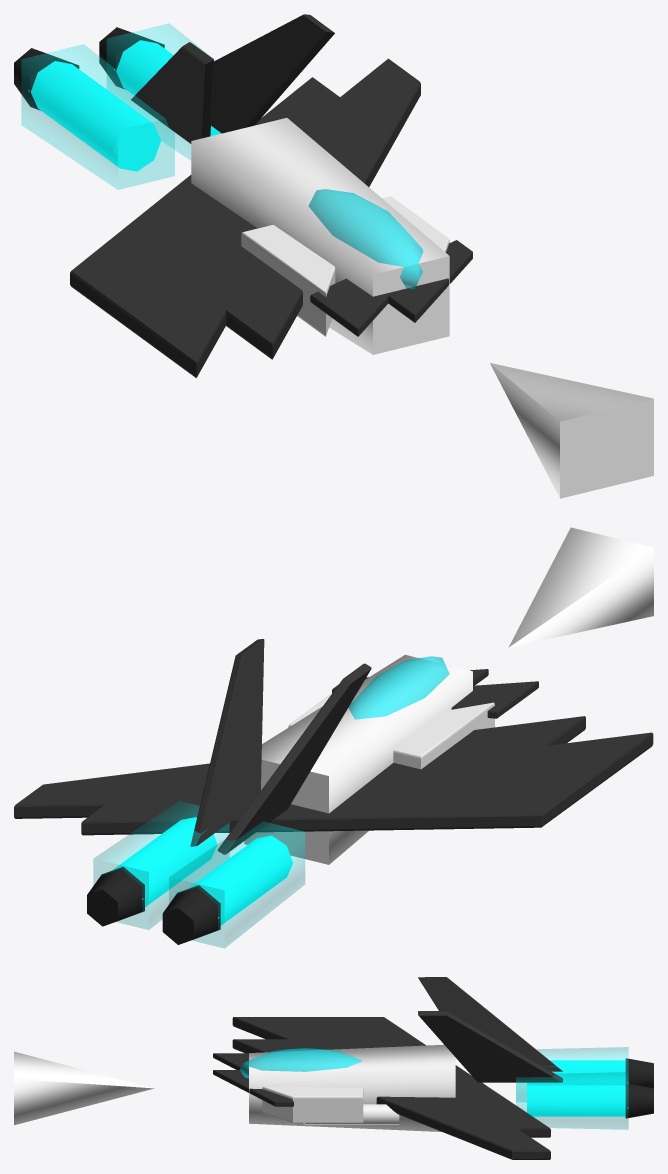
File: fighter_player_260801_343.glb
3 renders of one model, top to bottom at view 1: azimuth 30°, elevation 25°; view 2: azimuth 150°, elevation 25°; view 3: azimuth 270°, elevation 25°, orthographic. The views are drawn at different scales.
Visible parts, largest first — view 1: dummy_fuselage, MainWing_L, MainWing_R, Engine_R, NoseCone, VerticalTail_L, Canopy, VerticalTail_R, Engine_L, Intake_R, Canard_R, Canard_L (+1 smaller); view 2: MainWing_R, dummy_fuselage, MainWing_L, Engine_R, NoseCone, Engine_L, VerticalTail_L, VerticalTail_R, Canopy, Intake_R, Canard_R; view 3: dummy_fuselage, MainWing_R, MainWing_L, Engine_L, NoseCone, VerticalTail_L, Engine_R, Intake_L, VerticalTail_R, Canopy, Canard_L, Weapon_L (+1 smaller).
Part boxes in pixels (x1,y1,x2,y2): dummy_fuselage: (191, 118, 449, 354); MainWing_L: (147, 58, 420, 359); MainWing_R: (70, 77, 343, 377); Engine_R: (14, 44, 174, 189); NoseCone: (490, 363, 653, 498); VerticalTail_L: (211, 14, 334, 133); Canopy: (308, 189, 423, 289); VerticalTail_R: (131, 42, 213, 143); Engine_L: (99, 23, 221, 160); Intake_R: (241, 224, 335, 336); Canard_R: (310, 278, 388, 336); Canard_L: (386, 240, 472, 322); MainWing_R: (81, 732, 653, 835); dummy_fuselage: (244, 654, 472, 864); MainWing_L: (14, 716, 585, 818); Engine_R: (162, 821, 304, 948); NoseCone: (508, 527, 653, 647); Engine_L: (87, 801, 229, 929); VerticalTail_L: (190, 639, 264, 846); VerticalTail_R: (217, 663, 371, 854); Canopy: (348, 656, 449, 719); Intake_R: (393, 702, 494, 769); Canard_R: (451, 681, 538, 718); dummy_fuselage: (249, 1044, 455, 1131); MainWing_R: (232, 1017, 550, 1137); MainWing_L: (232, 1039, 550, 1159); Engine_L: (516, 1072, 653, 1129); NoseCone: (14, 1051, 154, 1125); VerticalTail_L: (418, 1011, 562, 1082); Engine_R: (516, 1047, 653, 1101); Intake_L: (262, 1087, 363, 1123); VerticalTail_R: (418, 977, 562, 1071); Canopy: (240, 1048, 361, 1078); Canard_L: (213, 1070, 293, 1106); Weapon_L: (303, 1104, 399, 1124).
Size of the model in its own units: 3.38 by 1.46 by 6.81.
